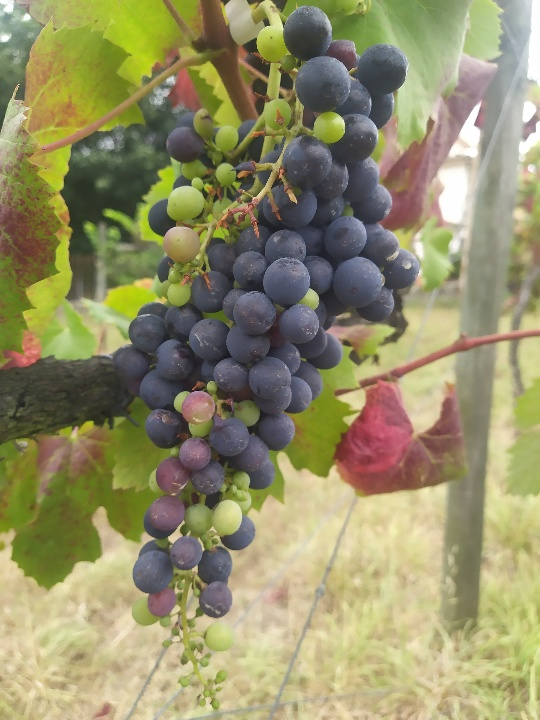grape: (111, 3, 424, 709)
